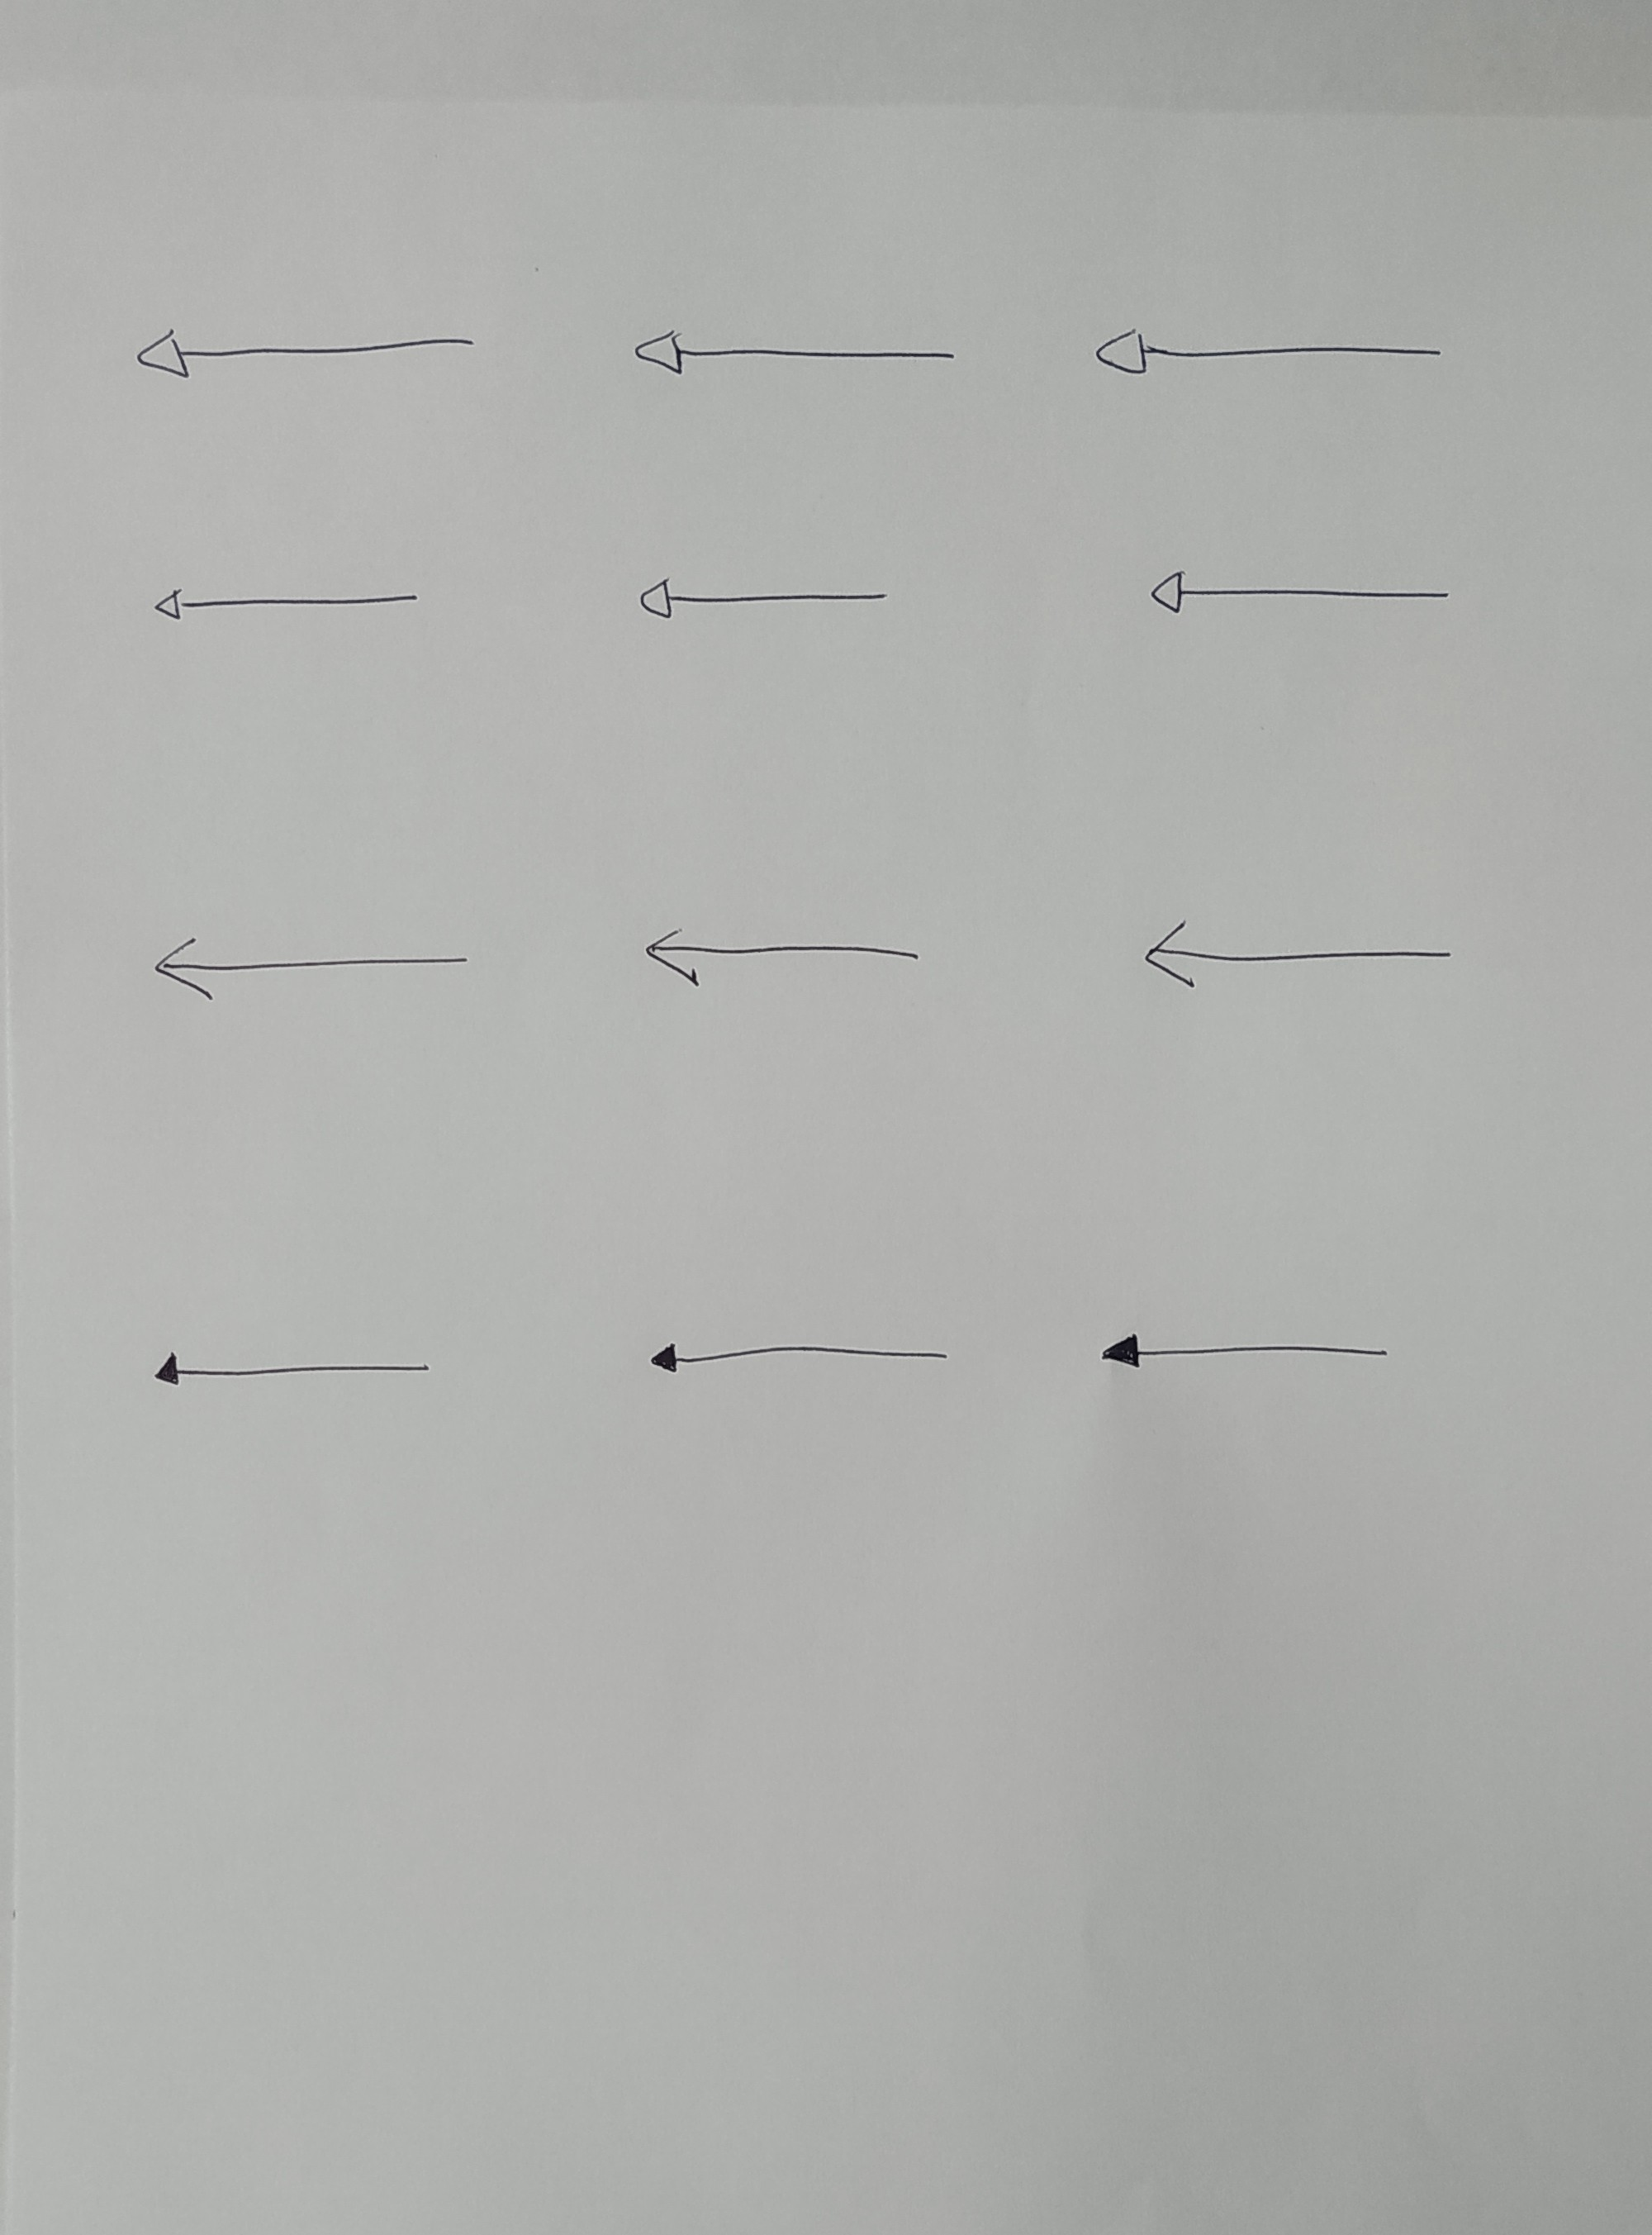arrow_line_left: (1138, 913, 1456, 1003), (127, 312, 484, 385), (144, 930, 475, 1008), (623, 318, 965, 390), (1085, 318, 1451, 382), (637, 918, 930, 996), (1142, 557, 1456, 623), (1090, 1319, 1395, 1383), (144, 1341, 441, 1402), (646, 1334, 958, 1388), (142, 571, 427, 628), (630, 567, 899, 626)
